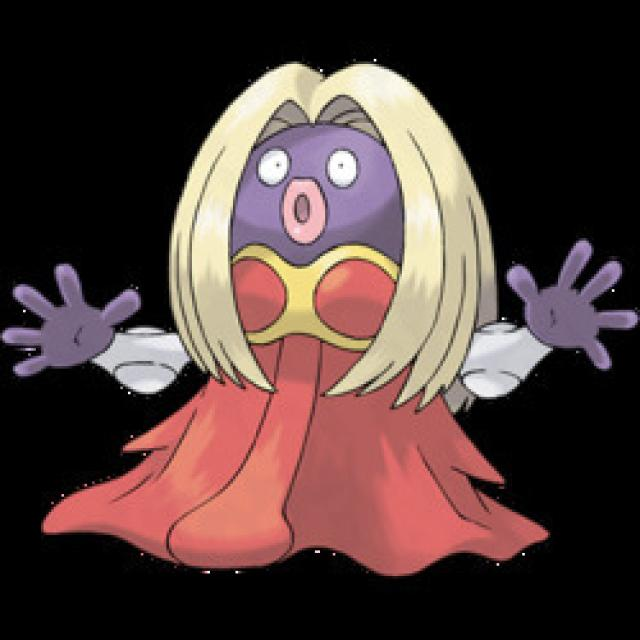Jynx: (134, 55, 528, 562)
